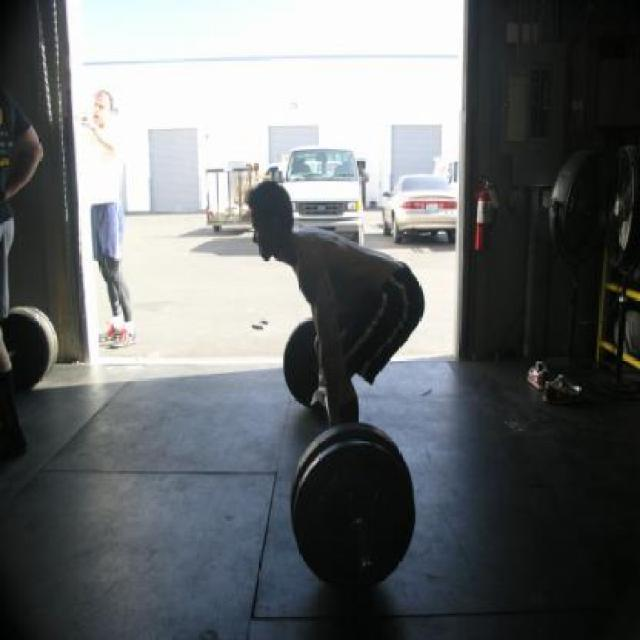Barbell: (356, 556, 382, 582)
